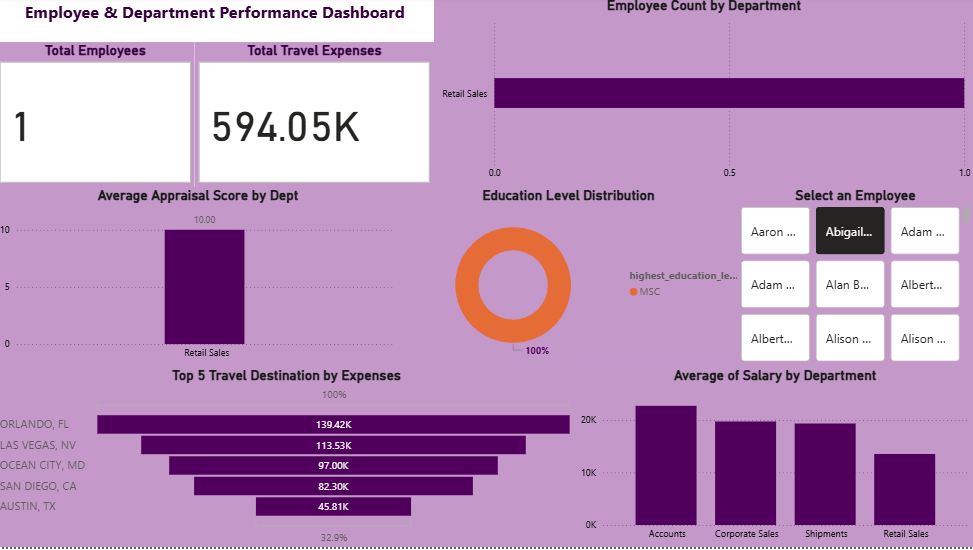

The dashboard page shown, as its layout file describes it:
{"tool":"powerbi","page":{"name":"Page 1","canvas":[1280,720],"ordinal":0},"visuals":[{"type":"clusteredColumnChart","title":"Average of Salary by Department","fields":{"Category":["departments.department"],"Y":["Avg(departments.salary)"]},"box":[760.9,483.8,519.1,236.9],"z":0},{"type":"clusteredBarChart","title":"Employee Count by Department","fields":{"Category":["departments.department"],"Y":["CountNonNull(employees._id)"]},"box":[572.8,0,707.2,248.6],"z":1000},{"type":"clusteredColumnChart","title":"Average Appraisal Score by Dept","fields":{"Category":["departments.department"],"Y":["Avg(appraisals.last_appraisal_score)"]},"box":[0,248.7,528.9,235.6],"z":2000},{"type":"donutChart","title":"Education Level Distribution","fields":{"Category":["employees.highest_education_level"],"Y":["CountNonNull(employees._id)"]},"box":[519.7,248.7,459.5,235.6],"z":3000},{"type":"funnel","title":"Top 5 Travel Destination by Expenses","fields":{"Y":["Sum(travel_expenses.actual_total_expenses)"],"Category":["travel_expenses.destination"]},"box":[0,483.8,760.9,236.9],"z":4000},{"type":"cardVisual","title":"Total Employees","fields":{"Data":["CountNonNull(employees._id)"]},"box":[0,58.8,260.4,189.8],"z":5000},{"type":"cardVisual","title":"Total Travel Expenses","fields":{"Data":["Sum(travel_expenses.actual_total_expenses)"]},"box":[260.5,58.9,312.9,189.8],"z":6000},{"type":"advancedSlicerVisual","title":"Select an Employee","fields":{"Values":["employees.name"]},"box":[970,248.7,310.3,235.6],"z":7000},{"type":"textbox","box":[0,0,572.8,58.8],"z":8000}]}

Visuals, with their boxes in screenshot pixels (x1, y1, x2, y2), scaled from the page's 1280x720 canvas onto the 973x550 screenshot:
"Average of Salary by Department" clusteredColumnChart: <bbox>578, 370, 972, 549</bbox>
"Employee Count by Department" clusteredBarChart: <bbox>435, 0, 972, 190</bbox>
"Average Appraisal Score by Dept" clusteredColumnChart: <bbox>0, 190, 402, 370</bbox>
"Education Level Distribution" donutChart: <bbox>395, 190, 744, 370</bbox>
"Top 5 Travel Destination by Expenses" funnel: <bbox>0, 370, 578, 549</bbox>
"Total Employees" cardVisual: <bbox>0, 45, 198, 190</bbox>
"Total Travel Expenses" cardVisual: <bbox>198, 45, 436, 190</bbox>
"Select an Employee" advancedSlicerVisual: <bbox>737, 190, 972, 370</bbox>
textbox: <bbox>0, 0, 435, 45</bbox>
